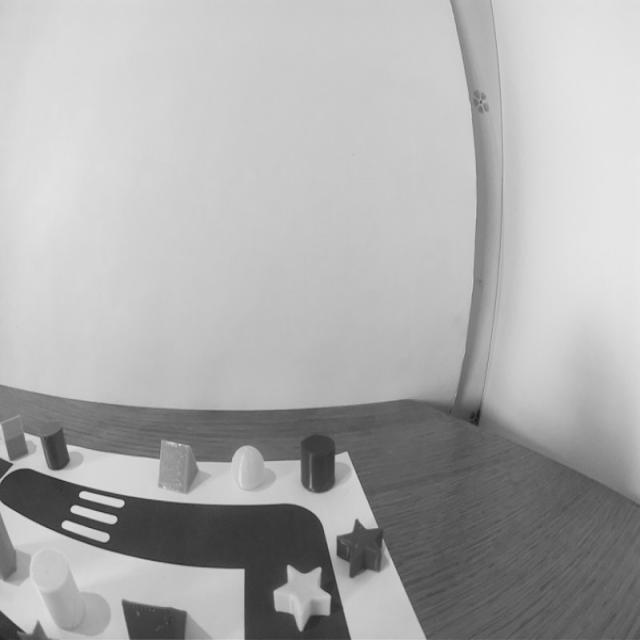ball: (228, 440, 271, 496)
cylinder: (25, 543, 90, 634), (297, 428, 339, 496), (36, 415, 71, 470)
home: (0, 411, 31, 465)
laneLeftTurn: (231, 495, 345, 618)
star: (272, 559, 339, 640), (332, 512, 392, 584)
triangle: (155, 436, 200, 495)
zebracross: (56, 473, 132, 558)
